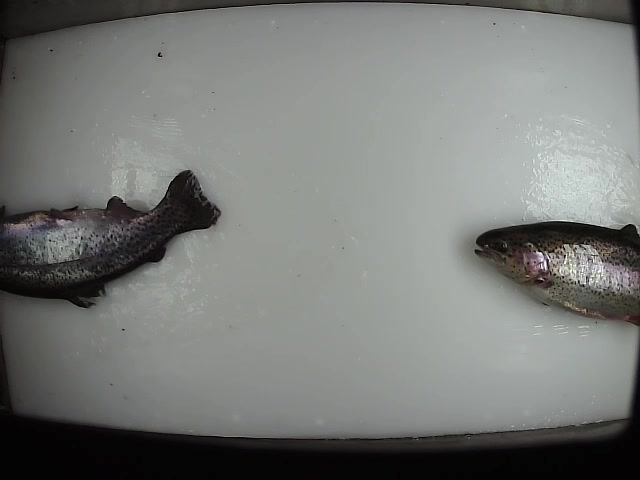fish: (1, 167, 223, 309), (472, 219, 640, 326)
